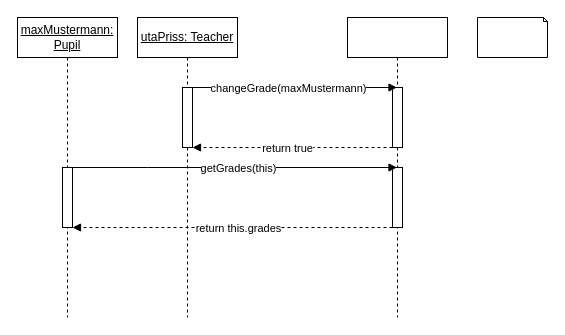
This 565x335 diagram has some shape labels left out. The shapes that lost their labels are listed below. From the top down, each one's box as (x1, y1, x2, y2) in pixels, then its label:
(476, 16, 548, 58): SD Noten
(346, 16, 448, 318): westfalia: School
